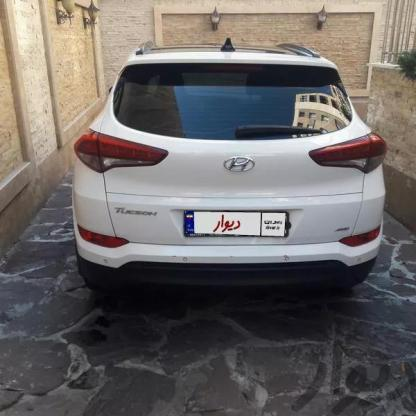Car: (63, 36, 374, 313)
